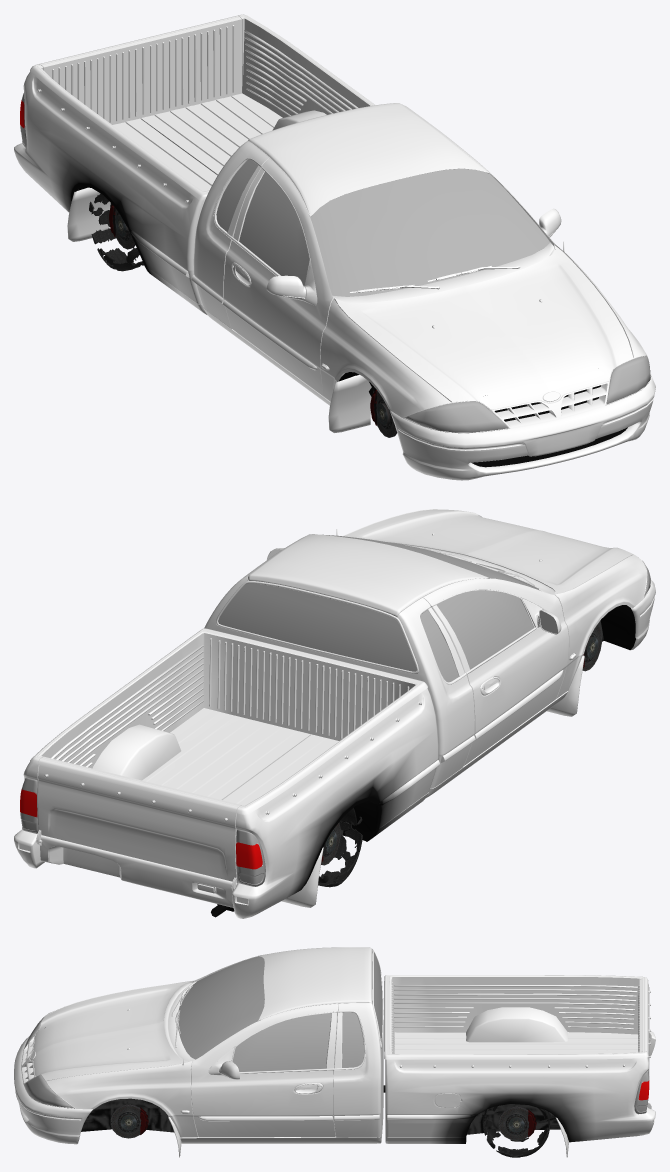
The model's file is 68_XLS.fbx.
The picture shows the model from 3 angles, top to bottom: view 1: azimuth 30°, elevation 25°; view 2: azimuth 150°, elevation 25°; view 3: azimuth 270°, elevation 25°; orthographic projection. The views are drawn at different scales.
Visible parts, largest first — view 1: Body_Duco, Body_Matte, Body_Glass, Body_Kits_00, Undercarrage; view 2: Body_Duco, Body_Matte, Body_Glass, Body_Kits_00, Undercarrage, BrakeLights; view 3: Body_Duco, Body_Matte, Body_Glass, Body_Kits_00, Undercarrage, Rotor (×2).
Part boxes in pixels (bbox=[...]): Body_Duco: bbox=[14, 72, 655, 480]; Body_Matte: bbox=[30, 14, 651, 433]; Body_Glass: bbox=[20, 92, 650, 432]; Body_Kits_00: bbox=[334, 245, 633, 409]; Undercarrage: bbox=[77, 186, 627, 467]; Body_Duco: bbox=[14, 509, 655, 918]; Body_Matte: bbox=[30, 529, 651, 907]; Body_Glass: bbox=[20, 515, 650, 886]; Body_Kits_00: bbox=[344, 509, 633, 594]; Undercarrage: bbox=[211, 605, 635, 917]; BrakeLights: bbox=[20, 789, 262, 869]; Body_Duco: bbox=[14, 947, 655, 1144]; Body_Matte: bbox=[23, 954, 650, 1157]; Body_Glass: bbox=[24, 953, 649, 1114]; Body_Kits_00: bbox=[30, 981, 192, 1081]; Undercarrage: bbox=[45, 1027, 560, 1134]; Rotor (×2): bbox=[110, 1104, 528, 1140].
Size of the model in its own units: 2.21 by 1.44 by 5.69.
